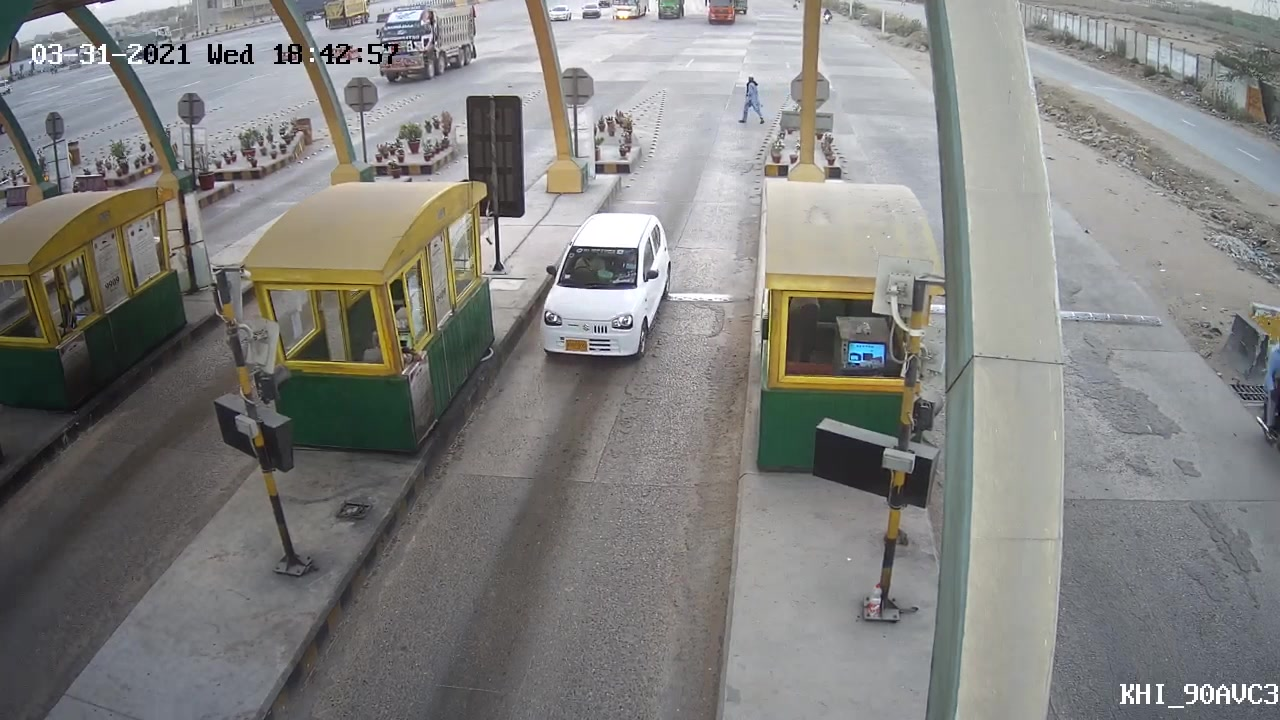F1: (522, 208, 682, 365)
